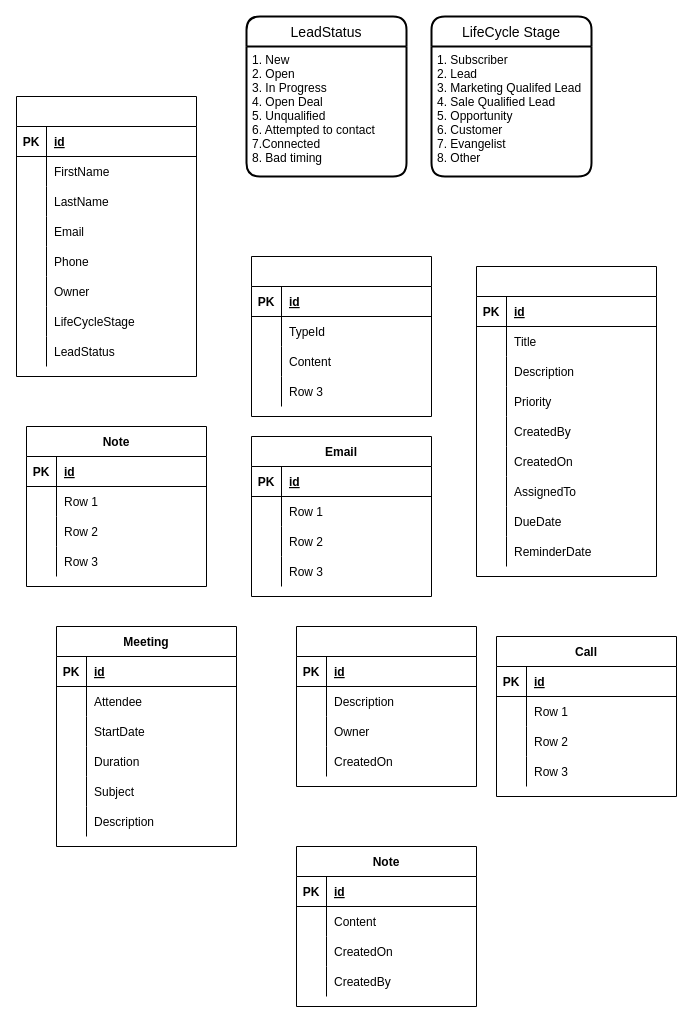
Some shapes in this 693 by 1023 pixel diagram are drawn without their labels. The box of each missing label's shape, as (x1, y1, x2, y2) in pixels:
Activity: (250, 256, 432, 416)
Comment: (296, 626, 476, 786)
Contact: (16, 96, 196, 376)
Task: (476, 266, 656, 576)
